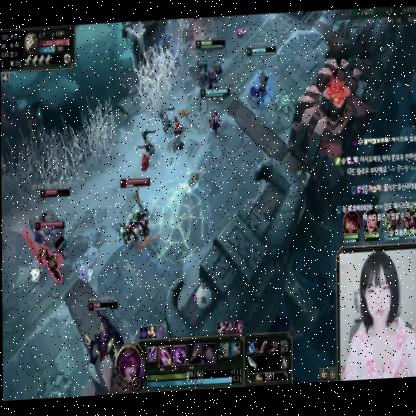streamer: (342, 254, 416, 384)
